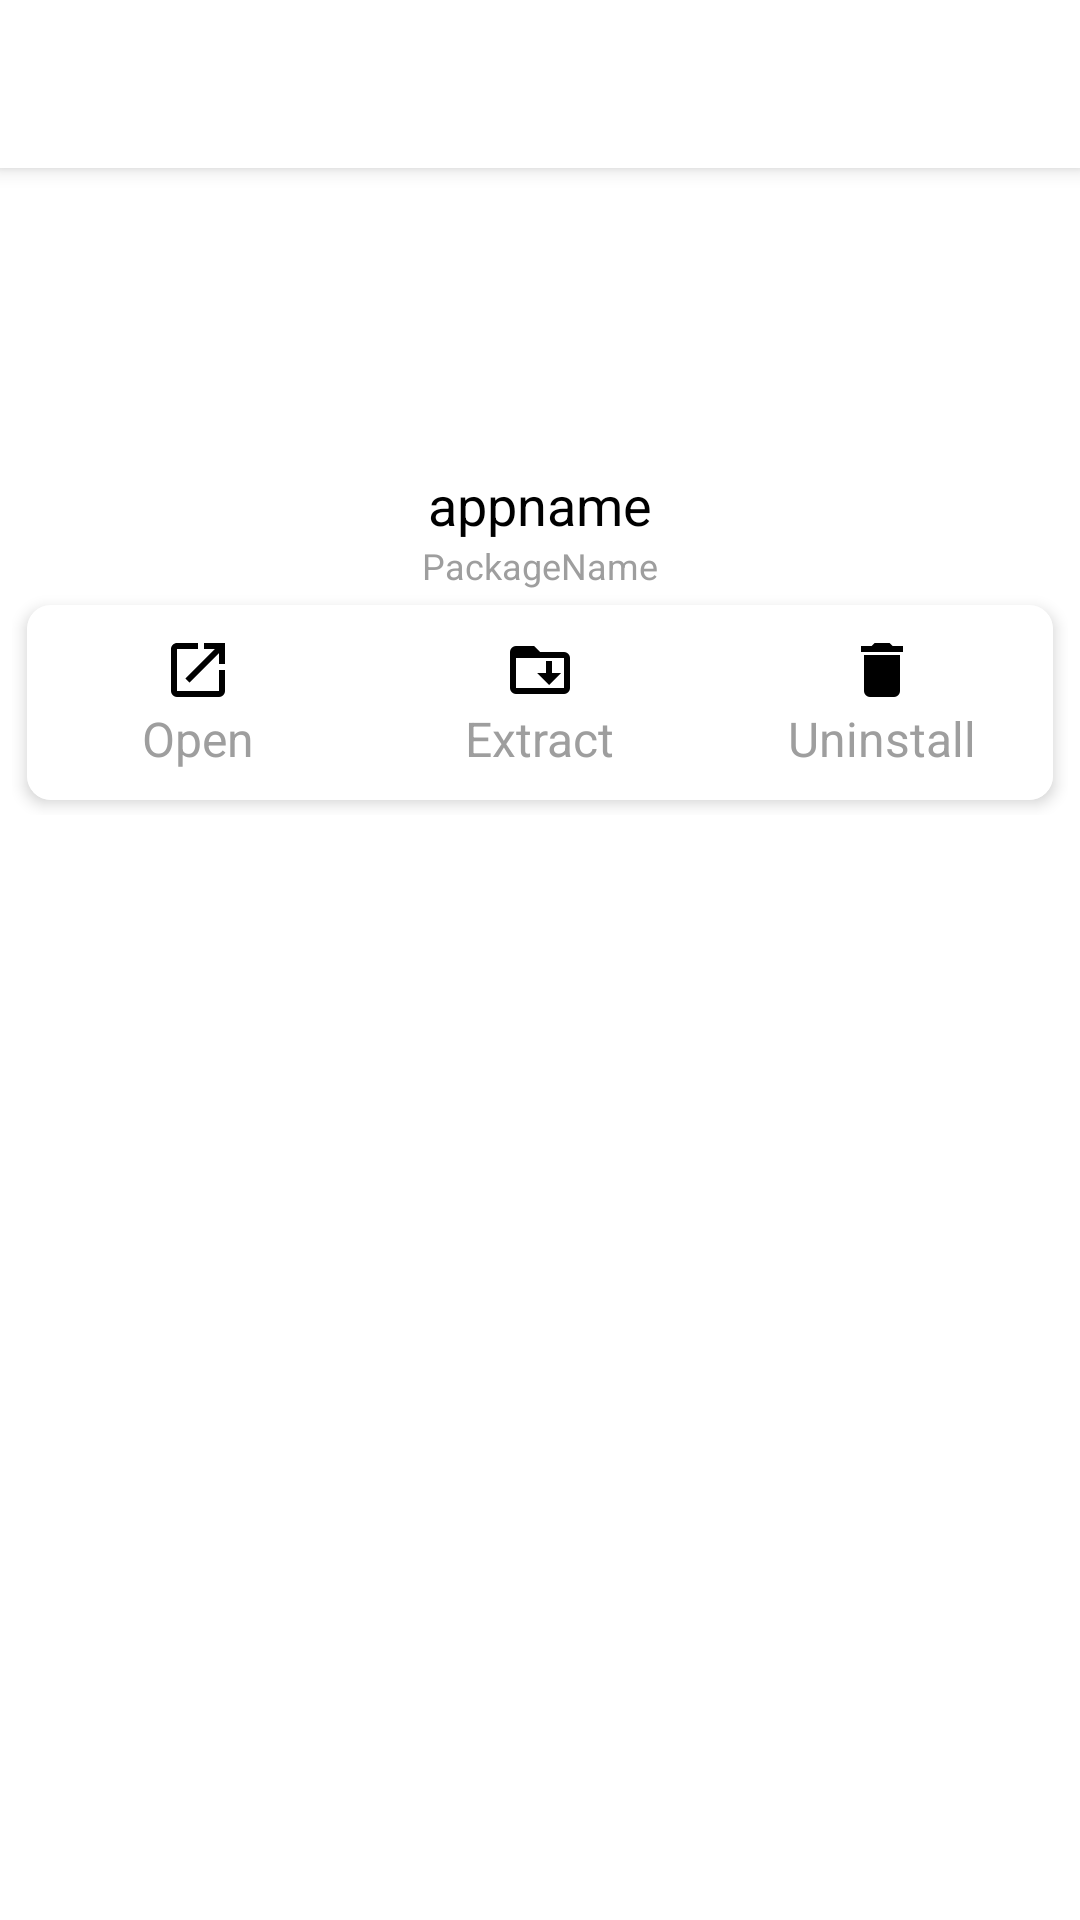

Icon click points for this 1080×1920 phone screenshot, format (x,y):
backup: (540,670)
delete: (882,670)
